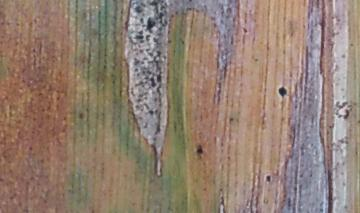tarspot: (145, 16, 155, 33), (277, 86, 288, 97), (195, 144, 205, 156), (148, 75, 157, 88), (133, 32, 145, 41), (343, 107, 350, 120), (76, 110, 86, 119), (156, 10, 165, 19), (154, 48, 163, 57), (156, 72, 163, 83), (147, 108, 156, 115), (265, 174, 272, 182), (228, 116, 235, 122), (242, 26, 248, 33)
